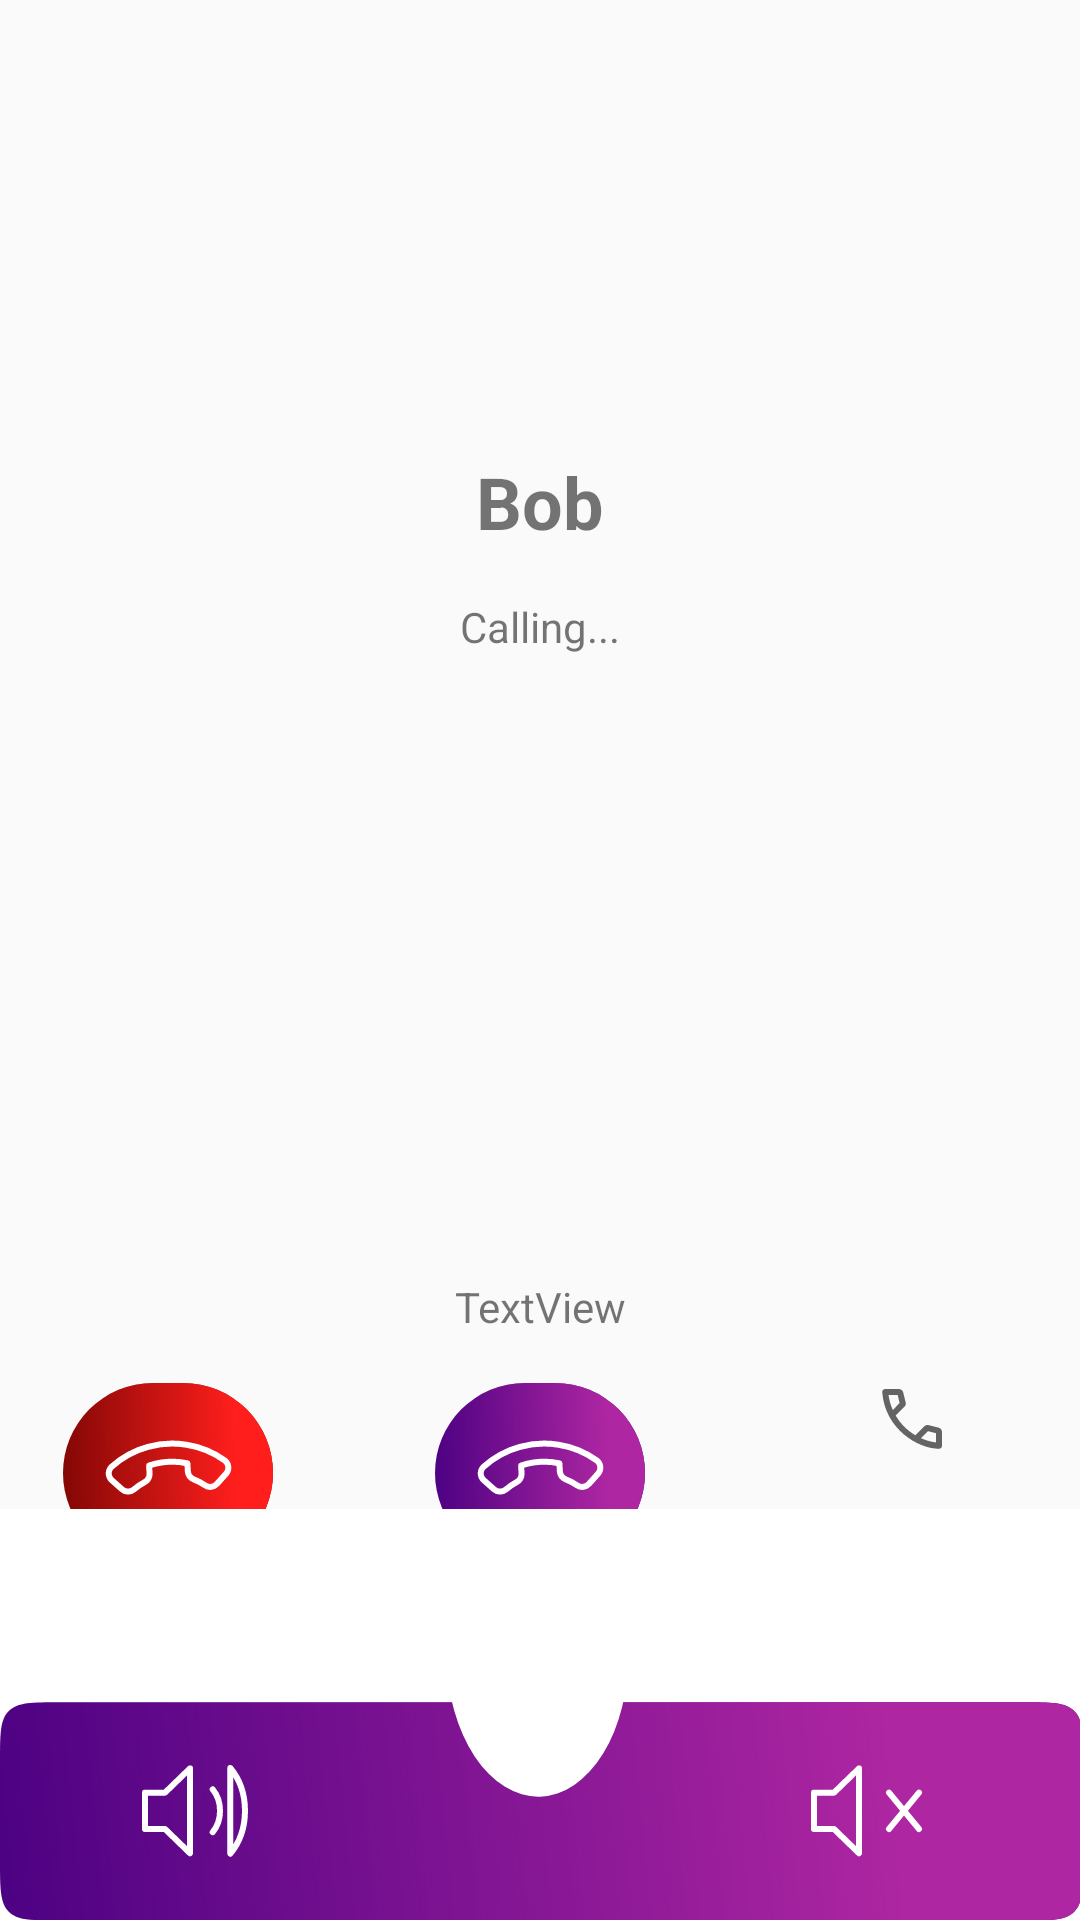

Icons on this 1080w x 1920h Android screen, each with the point to tap as (x=x, y=y):
call answer: (x=912, y=1419)
call reject: (x=168, y=1446)
